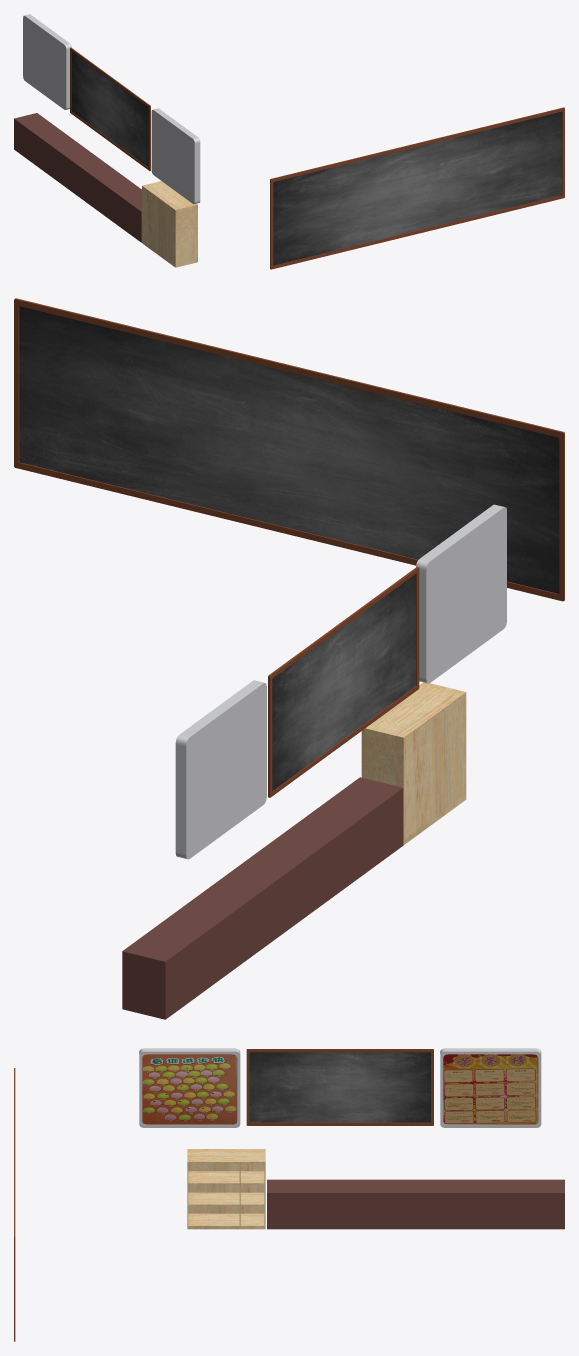
Rendered from heiban 1.fbx.
3 views of the same model, one above another, from view 1: azimuth 30°, elevation 25°; view 2: azimuth 150°, elevation 25°; view 3: azimuth 270°, elevation 25° (orthographic). The views are drawn at different scales.
Parts seen in each view (by area): view 1: polySurface89, polySurface83, polySurface80, polySurface82, polySurface79, polySurface74, polySurface73, polySurface76; view 2: polySurface89, polySurface83, polySurface80, polySurface79, polySurface82, polySurface73, polySurface74, polySurface76; view 3: polySurface83, polySurface80, polySurface78, polySurface81, polySurface74, polySurface73, polySurface76, polySurface79, polySurface82, polySurface89.
Boxes of the visible parts, x1,y1,x2,y2 form: polySurface89: (270,107,564,269); polySurface83: (14,113,141,242); polySurface80: (71,51,148,167); polySurface82: (151,108,200,204); polySurface79: (23,14,71,109); polySurface74: (142,181,197,267); polySurface73: (142,187,174,263); polySurface76: (70,47,150,170); polySurface89: (14,298,564,601); polySurface83: (122,777,403,1019); polySurface80: (272,574,415,790); polySurface79: (175,680,266,859); polySurface82: (416,504,506,683); polySurface73: (405,694,465,838); polySurface74: (361,682,466,845); polySurface76: (268,567,419,797); polySurface83: (267,1179,564,1229); polySurface80: (249,1052,430,1122); polySurface78: (443,1054,538,1124); polySurface81: (142,1054,237,1124); polySurface74: (187,1149,265,1229); polySurface73: (188,1163,264,1213); polySurface76: (246,1049,433,1125); polySurface79: (440,1048,541,1127); polySurface82: (139,1048,240,1127); polySurface89: (14,1068,15,1341).
Size of the model in its own units: 547 by 236 by 704.
